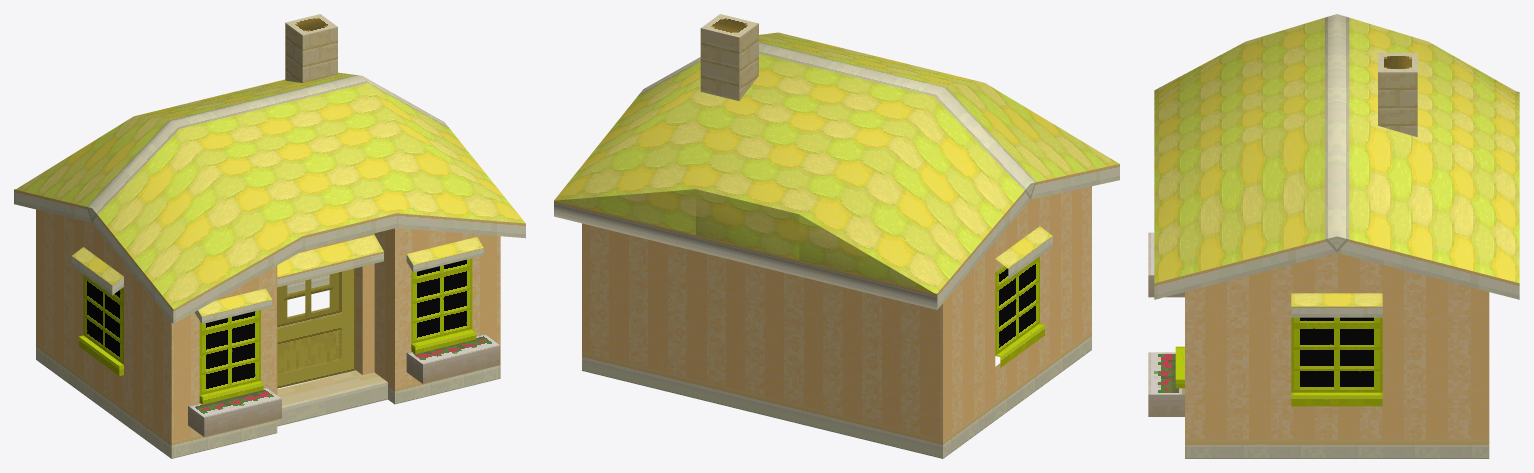
Rendered from Cute House 2.obj.
3 views of the same model, side by side, from view 1: azimuth 30°, elevation 25°; view 2: azimuth 150°, elevation 25°; view 3: azimuth 270°, elevation 25° (orthographic). The views are drawn at different scales.
Visible parts, largest first — view 1: casa_polygon0.133, puerta_polygon0.002; view 2: casa_polygon0.133; view 3: casa_polygon0.133.
Boxes of the visible parts, x1,y1,x2,y2 form: casa_polygon0.133: [14, 14, 525, 458]; puerta_polygon0.002: [277, 268, 355, 388]; casa_polygon0.133: [554, 14, 1119, 458]; casa_polygon0.133: [1148, 14, 1519, 458].
Size of the model in its own units: 15 by 12.5 by 12.2.
Materials: 7 (7 with a texture image).
